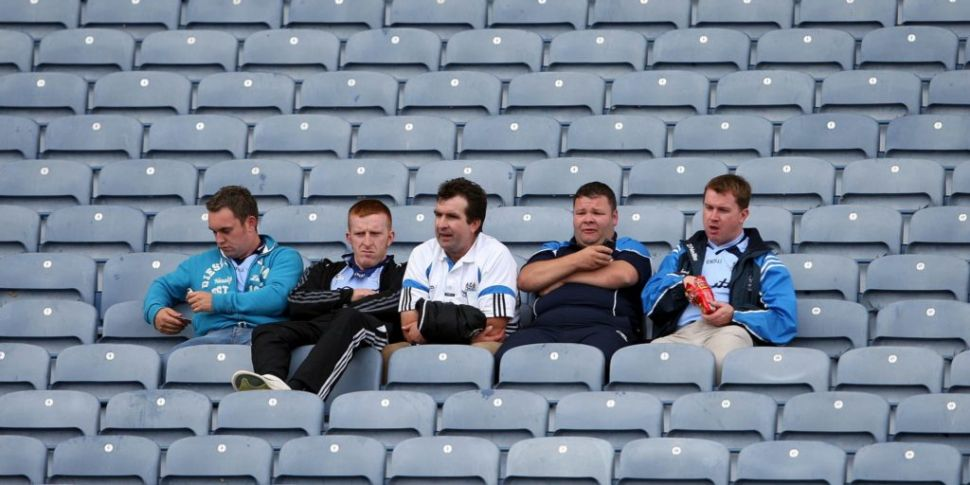Person: (649, 174, 798, 347), (519, 181, 651, 341), (146, 184, 284, 335), (286, 200, 396, 387), (399, 178, 520, 345)
